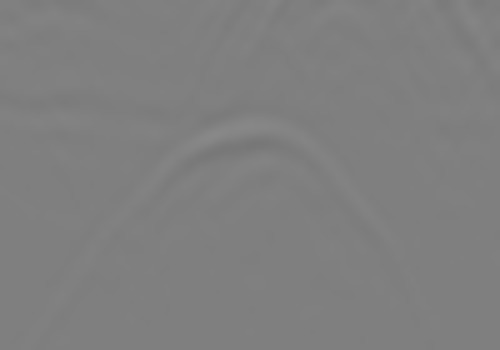hyperbola: (89, 109, 427, 312)
